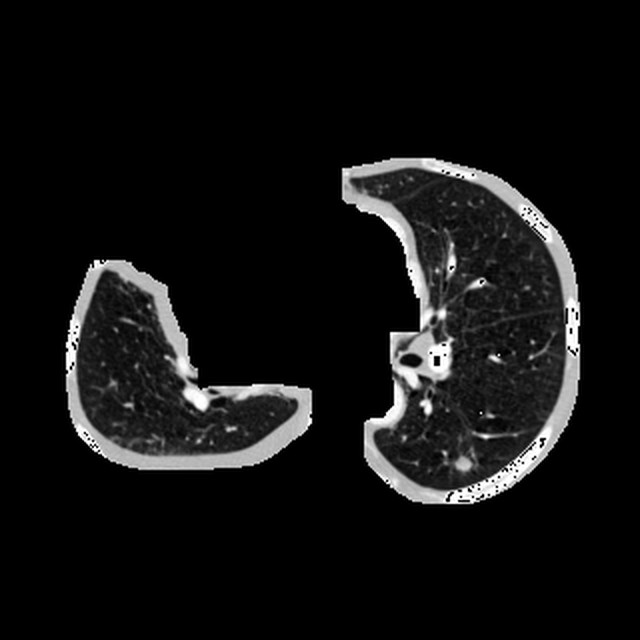PN: (454, 456, 470, 472)
